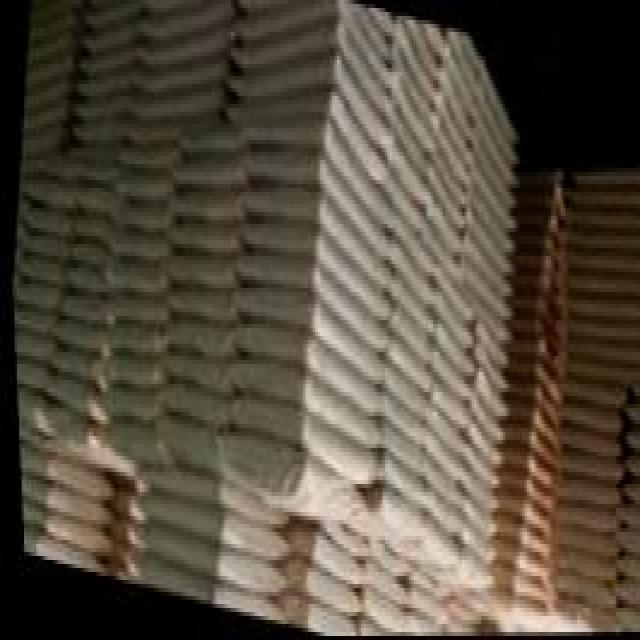gunny_bag: (248, 117, 396, 236), (240, 245, 386, 355), (241, 43, 386, 152), (228, 389, 375, 494), (228, 347, 376, 450), (251, 212, 387, 322), (235, 0, 394, 94), (234, 280, 376, 385), (257, 144, 381, 255), (214, 459, 378, 534), (132, 483, 282, 564), (131, 521, 282, 600), (134, 460, 284, 534), (284, 517, 362, 593), (15, 441, 106, 503), (17, 495, 103, 556), (39, 422, 127, 481), (390, 16, 441, 112), (285, 555, 358, 622), (143, 18, 229, 71), (465, 203, 514, 286), (457, 255, 512, 325), (390, 72, 434, 158), (469, 150, 513, 235), (141, 75, 222, 121), (378, 321, 427, 396), (537, 560, 608, 611), (279, 587, 351, 637), (153, 424, 216, 479), (374, 451, 428, 515), (429, 306, 472, 384), (157, 379, 223, 429), (372, 389, 422, 452), (503, 407, 551, 472), (161, 346, 225, 394), (385, 148, 434, 210), (475, 112, 514, 189), (50, 369, 99, 429), (545, 471, 613, 513), (389, 267, 429, 338), (164, 285, 230, 328), (425, 367, 467, 434), (485, 556, 540, 606), (561, 370, 620, 414), (550, 520, 611, 562), (512, 349, 556, 407), (496, 463, 546, 512), (178, 153, 244, 190), (509, 373, 554, 427), (453, 463, 496, 519), (464, 412, 502, 474), (89, 13, 151, 51), (569, 334, 640, 367), (167, 251, 227, 290), (553, 423, 614, 460), (494, 507, 541, 555), (570, 289, 640, 321), (517, 265, 557, 321), (432, 112, 464, 181), (564, 245, 640, 274), (359, 585, 401, 636), (96, 385, 153, 422), (171, 216, 233, 250), (455, 509, 491, 567), (79, 63, 137, 98), (103, 425, 156, 462), (443, 50, 473, 115), (109, 260, 159, 297), (119, 168, 173, 202), (516, 313, 554, 360), (575, 204, 640, 231), (103, 351, 154, 385), (115, 226, 163, 261), (405, 583, 443, 627), (55, 319, 103, 353), (12, 356, 52, 396), (519, 226, 556, 267), (186, 122, 234, 152), (111, 319, 154, 352), (11, 324, 49, 361), (11, 301, 51, 336), (16, 277, 55, 312), (61, 293, 101, 326), (76, 115, 126, 141), (64, 260, 106, 290), (120, 142, 171, 166), (521, 184, 555, 220), (33, 203, 70, 236), (27, 230, 61, 264), (88, 0, 136, 21), (77, 212, 108, 243), (612, 554, 639, 586), (613, 528, 640, 556), (620, 450, 640, 485), (620, 499, 640, 530), (623, 400, 640, 433), (617, 607, 635, 634)
